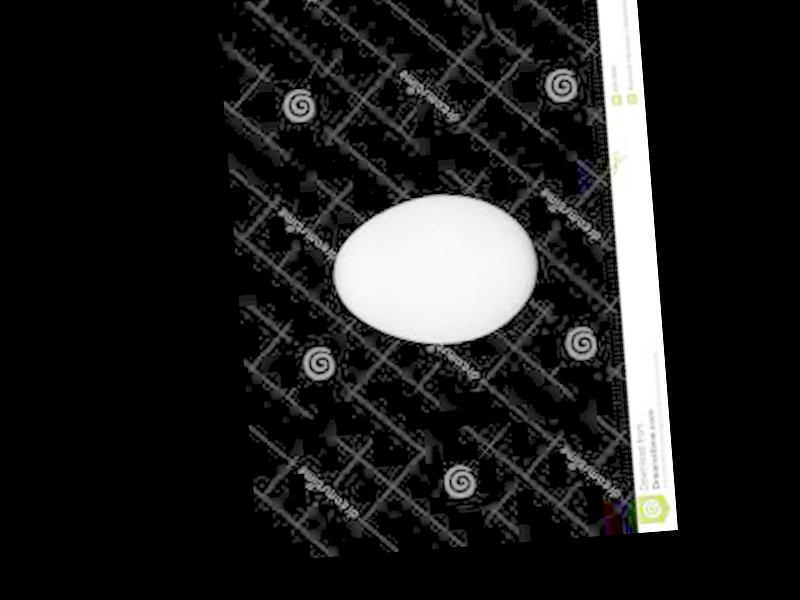Eggs: (329, 185, 540, 349)
